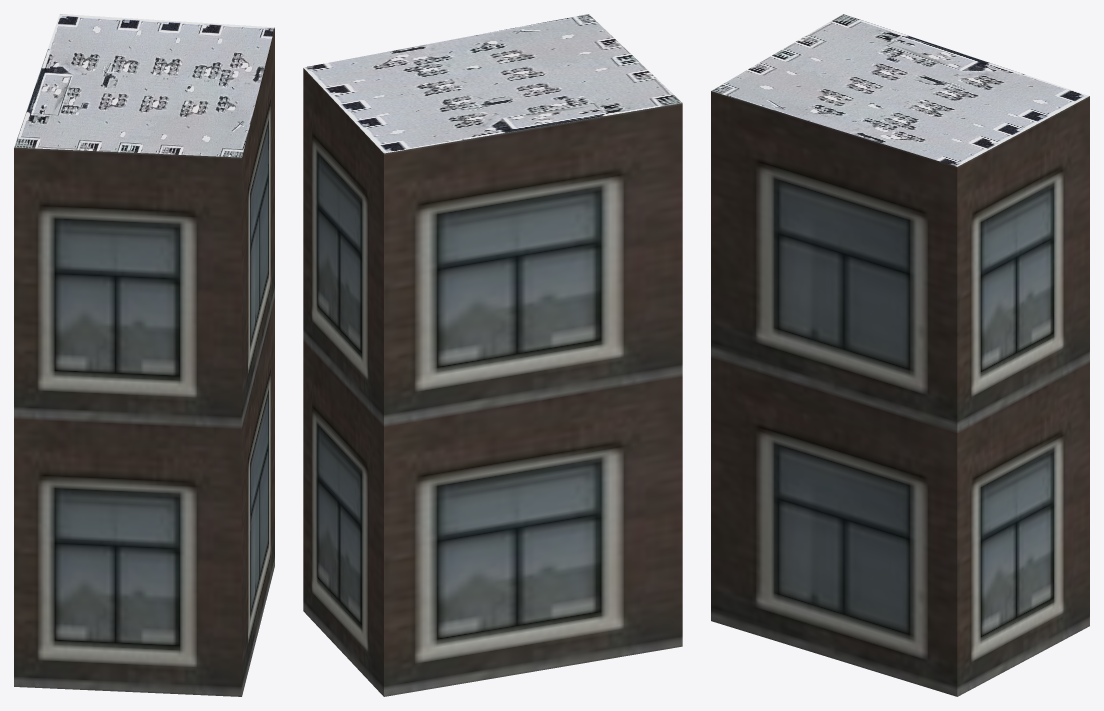
File: ResTex__2331.fbx
The picture shows the model from 3 angles, left to right: view 1: azimuth 30°, elevation 25°; view 2: azimuth 150°, elevation 25°; view 3: azimuth 270°, elevation 25°; orthographic projection. The views are drawn at different scales.
Visible parts, largest first — view 1: CityEngineMaterial_16_m, CityEngineMaterial_15_m; view 2: CityEngineMaterial_16_m, CityEngineMaterial_15_m; view 3: CityEngineMaterial_16_m, CityEngineMaterial_15_m.
Part boxes in pixels (x1,y1,x2,y2): CityEngineMaterial_16_m: [14, 27, 274, 696]; CityEngineMaterial_15_m: [14, 14, 274, 157]; CityEngineMaterial_16_m: [303, 68, 682, 696]; CityEngineMaterial_15_m: [303, 14, 682, 153]; CityEngineMaterial_16_m: [711, 91, 1089, 696]; CityEngineMaterial_15_m: [711, 14, 1089, 166].
Bounding box in the file's own units: 3.71 × 6 × 3.89.
Materials: 2 (2 with a texture image).
